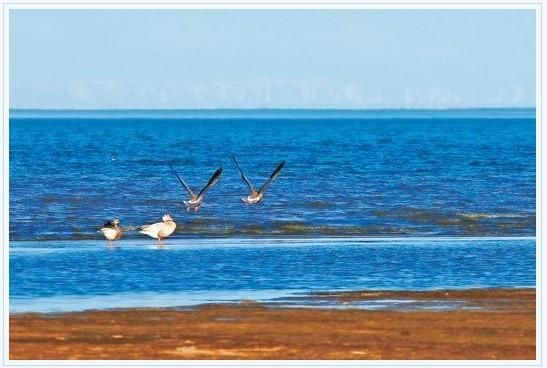bird: (163, 167, 224, 216), (227, 160, 288, 208), (134, 211, 178, 248), (94, 215, 124, 246)
